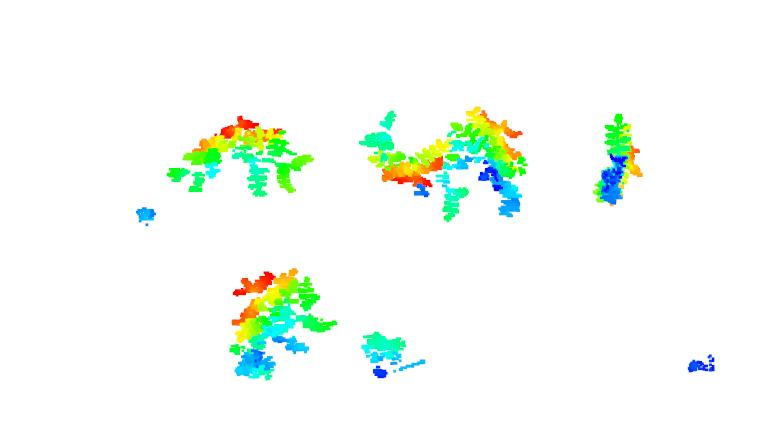chickpea: (227, 267, 337, 378), (132, 122, 229, 237), (449, 107, 523, 224), (235, 110, 312, 206), (361, 114, 443, 198), (595, 110, 646, 210), (355, 330, 408, 379), (691, 352, 718, 381)
